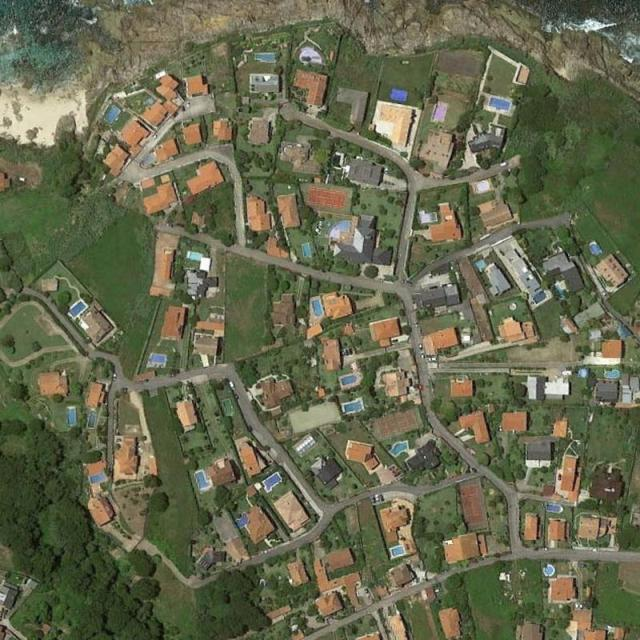vehicle: (388, 465, 395, 471), (230, 381, 235, 389), (428, 357, 438, 361), (392, 468, 398, 474), (113, 373, 117, 382), (421, 353, 425, 359), (395, 473, 399, 478)
